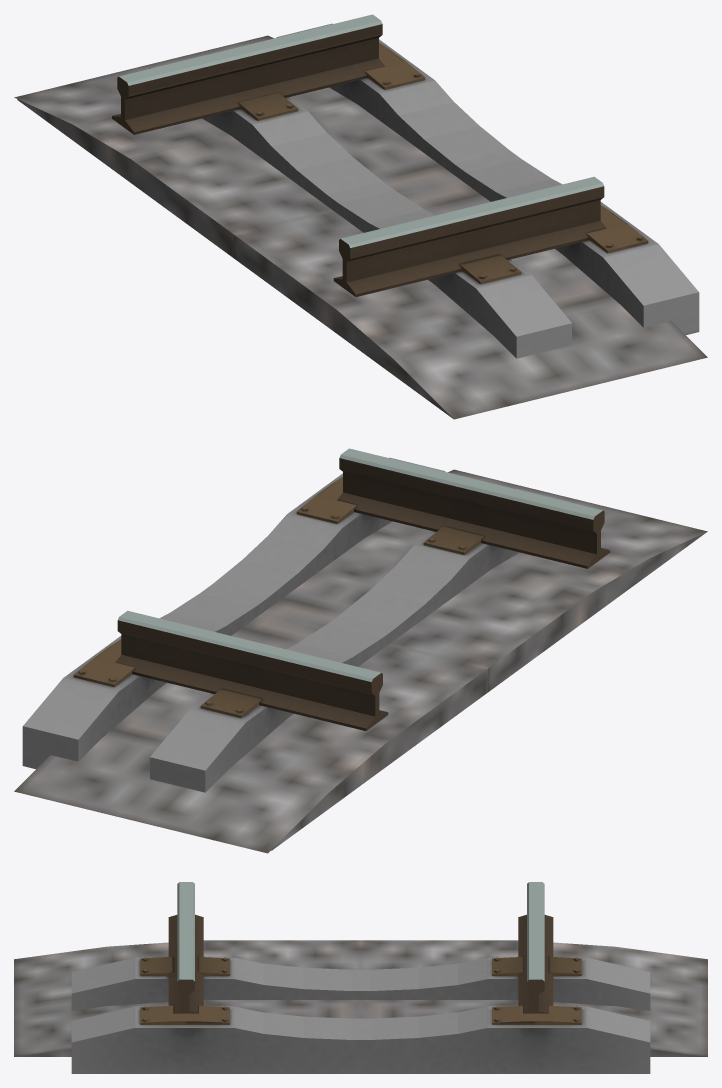
The model's file is sf_concrete_sleepers_ballast.obj.
3 renders of one model, top to bottom at view 1: azimuth 30°, elevation 25°; view 2: azimuth 150°, elevation 25°; view 3: azimuth 270°, elevation 25°, orthographic. The views are drawn at different scales.
Visible parts, largest first — view 1: RAIL_BASE_Cube.001, RAIL_BASE.002_Cube.005, RAIL_LEFT_Cube.002, RAIL_RIGHT_Cube.010, RAIL_BASE.005_Cube.003; view 2: RAIL_BASE_Cube.001, RAIL_BASE.002_Cube.005, RAIL_RIGHT_Cube.010, RAIL_LEFT_Cube.002, RAIL_BASE.005_Cube.003; view 3: RAIL_BASE.002_Cube.005, RAIL_BASE_Cube.001, RAIL_BASE.005_Cube.003, RAIL_LEFT_Cube.002, RAIL_RIGHT_Cube.010.
Part boxes in pixels (x1,y1,x2,y2): RAIL_BASE_Cube.001: (14,35,707,419); RAIL_BASE.002_Cube.005: (149,23,699,358); RAIL_LEFT_Cube.002: (333,176,606,296); RAIL_RIGHT_Cube.010: (112,14,384,134); RAIL_BASE.005_Cube.003: (238,43,648,284); RAIL_BASE_Cube.001: (14,469,707,853); RAIL_BASE.002_Cube.005: (22,457,572,792); RAIL_RIGHT_Cube.010: (115,610,388,730); RAIL_LEFT_Cube.002: (337,448,609,568); RAIL_BASE.005_Cube.003: (73,477,483,718); RAIL_BASE.002_Cube.005: (71,957,650,1073); RAIL_BASE_Cube.001: (14,940,707,1056); RAIL_BASE.005_Cube.003: (140,957,581,1024); RAIL_LEFT_Cube.002: (168,882,203,1013); RAIL_RIGHT_Cube.010: (518,882,553,1013).
Bounding box in the file's own units: 1.11 × 0.3983 × 3.
1 material, 1 textured.
